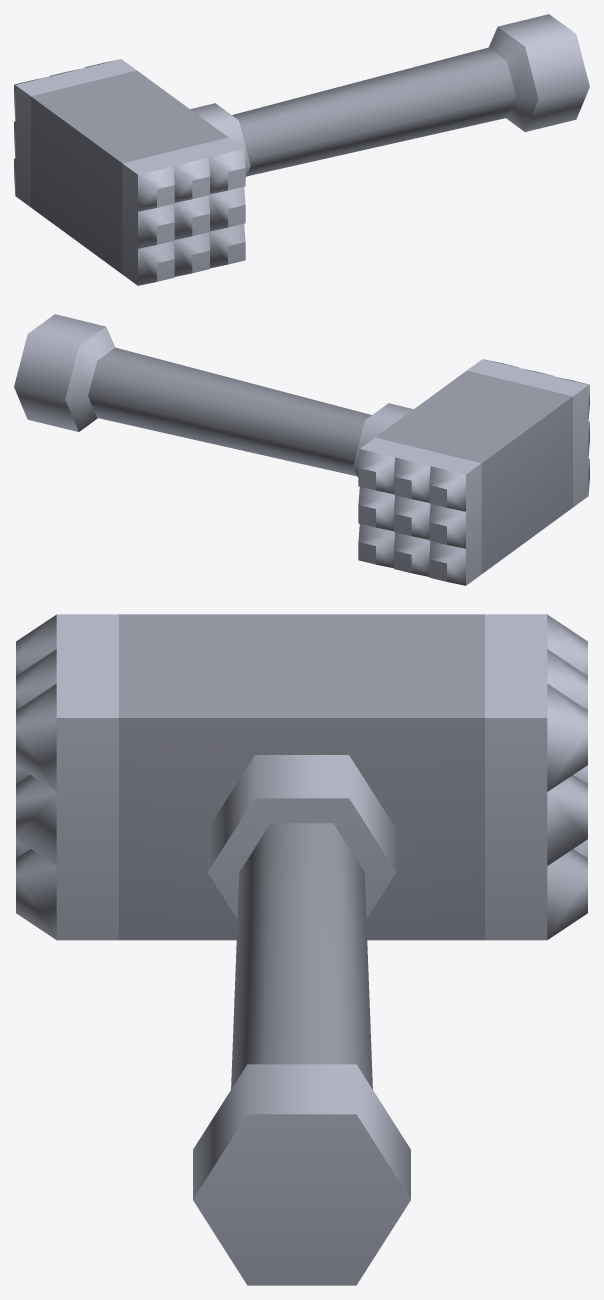
Rendered from meat-tenderizer.glb.
3 views of the same model, one above another, from view 1: azimuth 30°, elevation 25°; view 2: azimuth 150°, elevation 25°; view 3: azimuth 270°, elevation 25° (orthographic). The views are drawn at different scales.
Parts seen in each view (by area): view 1: meat-tenderizer; view 2: meat-tenderizer; view 3: meat-tenderizer.
Boxes of the visible parts, x1,y1,x2,y2 form: meat-tenderizer: [14, 14, 589, 285]; meat-tenderizer: [14, 314, 589, 585]; meat-tenderizer: [16, 614, 587, 1285].
Bounding box in the file's own units: 0.5408 × 0.1182 × 0.2757.
